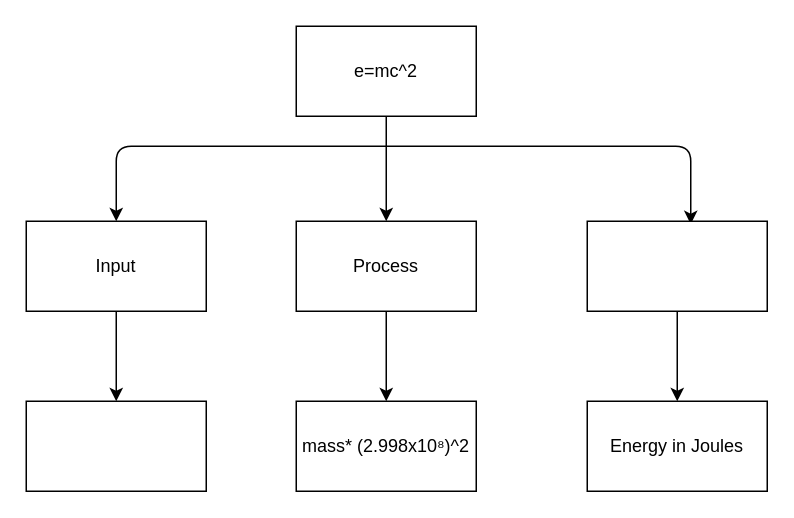
This 794x518 diagram has some shape labels left out. Here are the shapes that lost their labels. From the top down, the centre of each, then its label:
[676,265]: Output
[115,445]: mass
